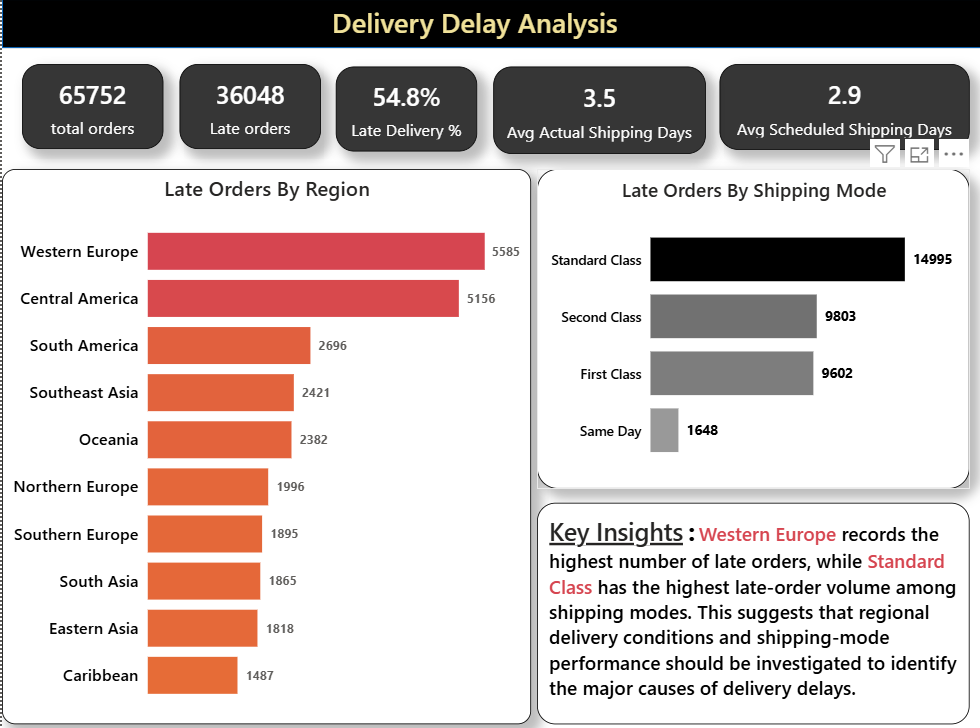

Layout of this report page (visuals, bound fields, positions):
{"tool":"powerbi","page":{"name":"Page 1","canvas":[960,720],"ordinal":0},"visuals":[{"type":"shape","box":[0,0,1280.3,48],"z":0},{"type":"textbox","box":[317.9,0,294.7,75.8],"z":1000},{"type":"card","fields":{"Values":["DataCoSupplyChainDataset1.total orders"]},"box":[19.6,63.6,138.2,83.2],"z":2000},{"type":"card","fields":{"Values":["DataCoSupplyChainDataset1.late orders"]},"box":[173.2,63.6,138.2,83.2],"z":3000},{"type":"card","fields":{"Values":["DataCoSupplyChainDataset1.Late Delivery %"]},"box":[326.9,66,138.2,83.2],"z":4000},{"type":"card","fields":{"Values":["DataCoSupplyChainDataset1.avg shipping days"]},"box":[480.6,66,207.9,85.6],"z":5000},{"type":"card","fields":{"Values":["DataCoSupplyChainDataset1.Avg Scheduled Shipping Days"]},"box":[701.9,63.6,244.6,84.4],"z":6000},{"type":"clusteredBarChart","title":"Late Orders By Region","fields":{"Y":["DataCoSupplyChainDataset1.late orders"],"Category":["DataCoSupplyChainDataset1.Order_Region"]},"box":[0,166.3,517.3,542.9],"z":7000},{"type":"barChart","title":"Late Orders By Shipping Mode","fields":{"Category":["DataCoSupplyChainDataset1.Shipping_Mode"],"Y":["DataCoSupplyChainDataset1.late orders"]},"box":[523.4,166.3,423.1,313],"z":8000},{"type":"textbox","box":[523.4,492.8,423.1,216.4],"z":9000}]}

Visuals, with their boxes in screenshot pixels (x1, y1, x2, y2), scaled from the page's 960x720 canvas onto the 980x728 screenshot:
shape: left=0, top=0, right=979, bottom=49
textbox: left=325, top=0, right=625, bottom=77
card - DataCoSupplyChainDataset1.total orders: left=20, top=64, right=161, bottom=148
card - DataCoSupplyChainDataset1.late orders: left=177, top=64, right=318, bottom=148
card - DataCoSupplyChainDataset1.Late Delivery %: left=334, top=67, right=475, bottom=151
card - DataCoSupplyChainDataset1.avg shipping days: left=491, top=67, right=703, bottom=153
card - DataCoSupplyChainDataset1.Avg Scheduled Shipping Days: left=717, top=64, right=966, bottom=150
"Late Orders By Region" clusteredBarChart: left=0, top=168, right=528, bottom=717
"Late Orders By Shipping Mode" barChart: left=534, top=168, right=966, bottom=485
textbox: left=534, top=498, right=966, bottom=717
